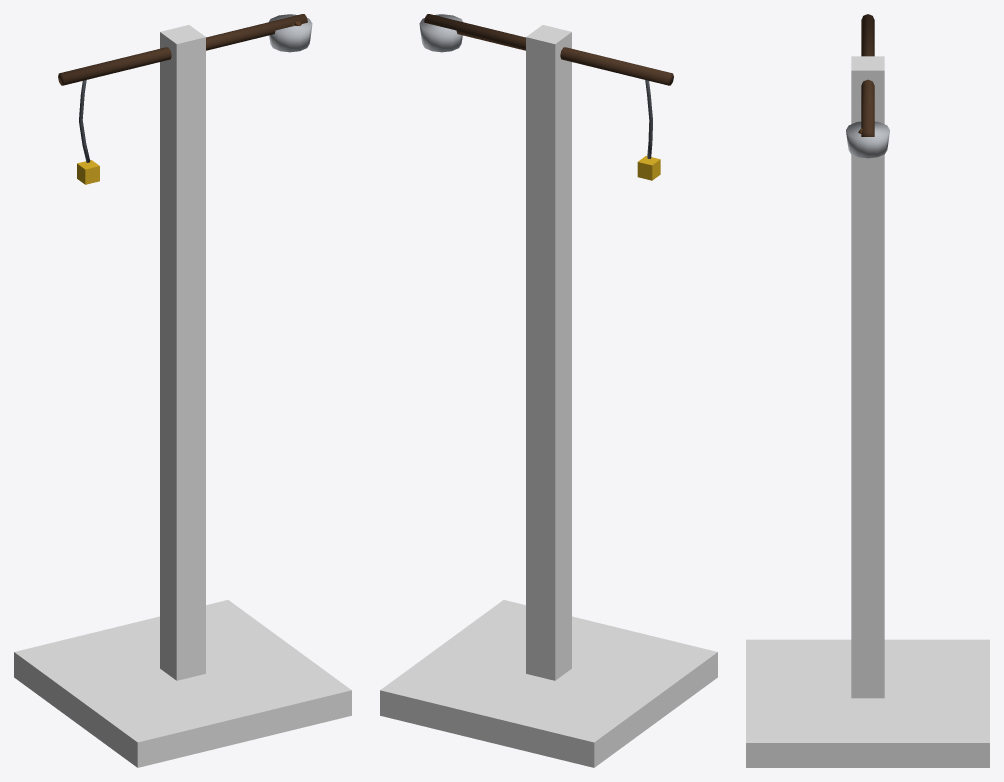
File: Furn_ParrotPerch.gltf
3 renders of one model, left to right at view 1: azimuth 30°, elevation 25°; view 2: azimuth 150°, elevation 25°; view 3: azimuth 270°, elevation 25°, orthographic.
Parts seen in each view (by area): view 1: Furn_ParrotPerch_COL, Furn_ParrotPerch_COL1, Furn_ParrotPerch; view 2: Furn_ParrotPerch_COL, Furn_ParrotPerch_COL1, Furn_ParrotPerch; view 3: Furn_ParrotPerch_COL, Furn_ParrotPerch_COL1, Furn_ParrotPerch.
Boxes of the visible parts, box(x1,y1,x2,y2) form: Furn_ParrotPerch_COL: box(14, 600, 351, 767); Furn_ParrotPerch_COL1: box(160, 25, 205, 680); Furn_ParrotPerch: box(58, 14, 312, 184); Furn_ParrotPerch_COL: box(380, 600, 717, 767); Furn_ParrotPerch_COL1: box(526, 25, 571, 680); Furn_ParrotPerch: box(419, 14, 673, 180); Furn_ParrotPerch_COL: box(746, 639, 989, 767); Furn_ParrotPerch_COL1: box(851, 56, 884, 698); Furn_ParrotPerch: box(846, 14, 889, 158).
Bounding box in the file's own units: 0.51 × 1.3 × 0.44.
